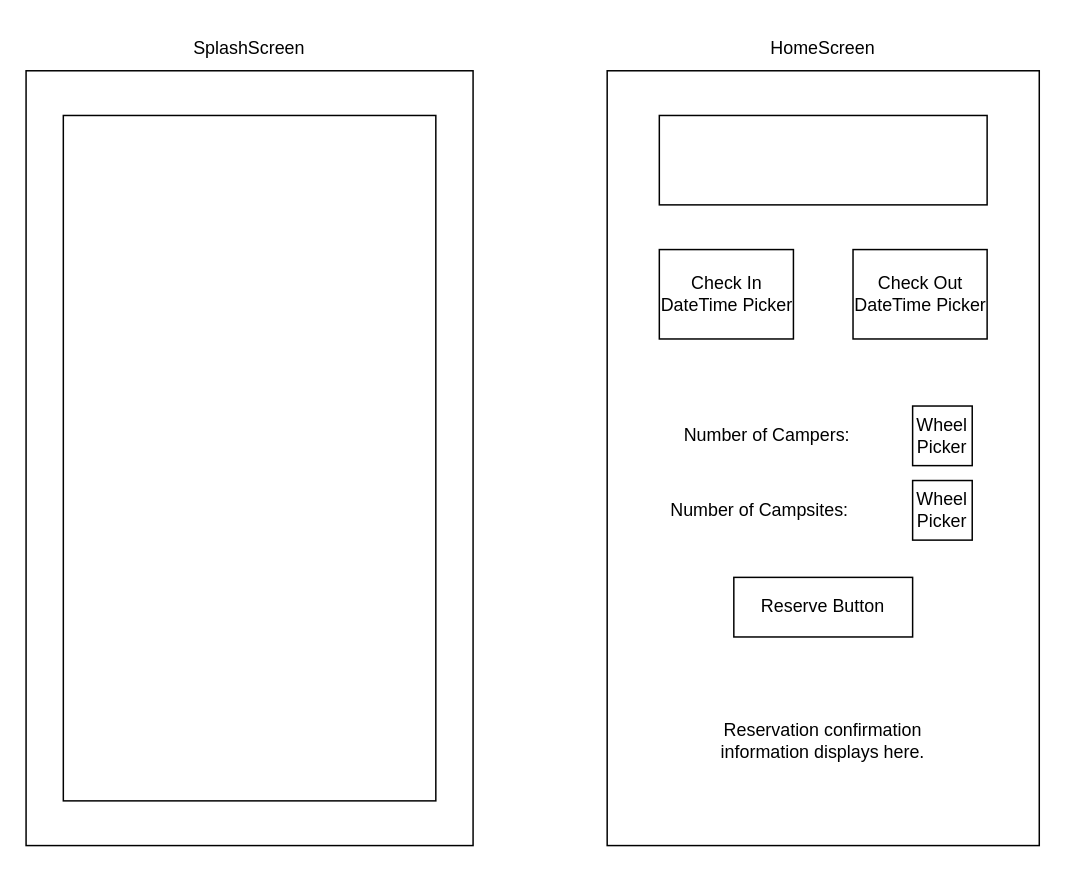
Image size: 1065x872. Some labels were removed from this diagram. Here are the shapes that lost their labels. From the top down, the centre of each, then its label:
At point 822,159: "Salty Acres".
At point 249,457: "Splash camp image as app and fonts load".
